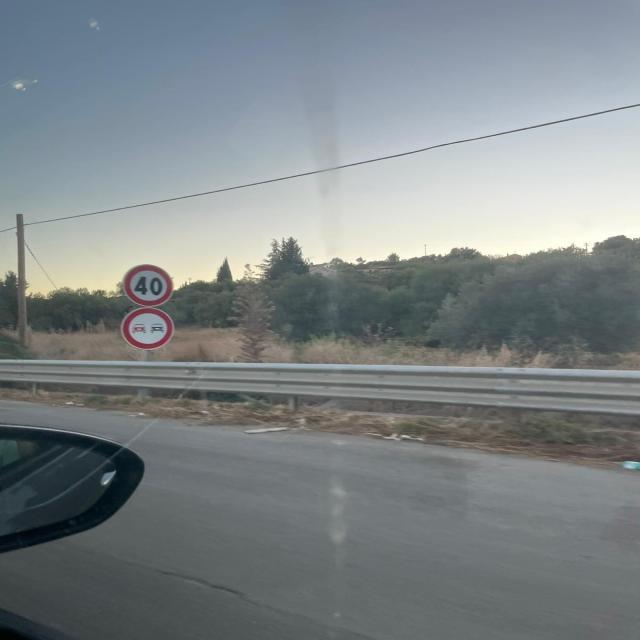forb_overtake: (121, 307, 175, 350)
forb_speed_over_40: (121, 262, 175, 307)
